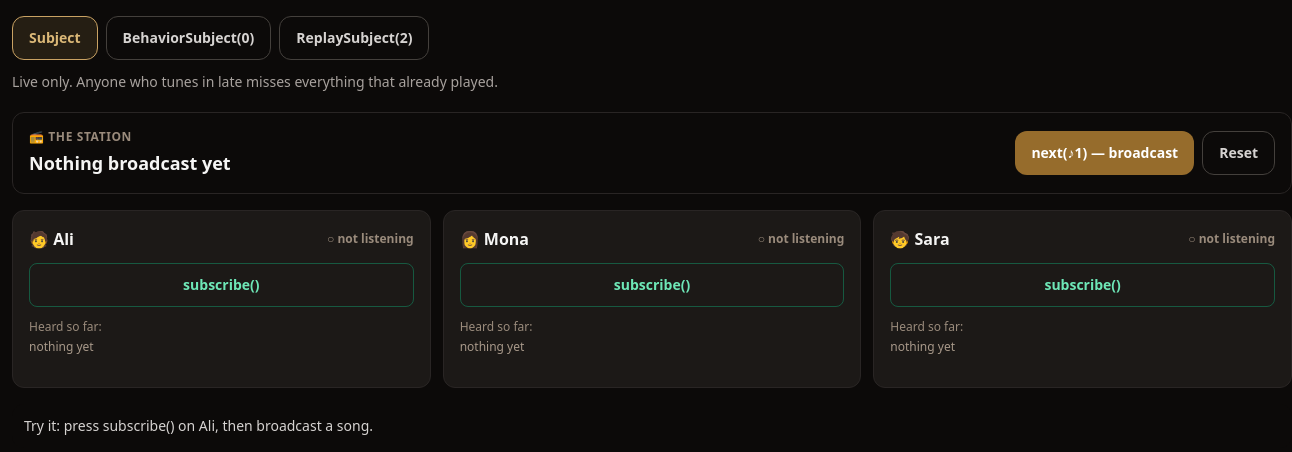
Test: SubjectRadioDemoComponent › gives a late listener nothing from a plain Subject
Click the button "next(♪1) — broadcast" at (1105, 153), box [1015,131,1194,175]
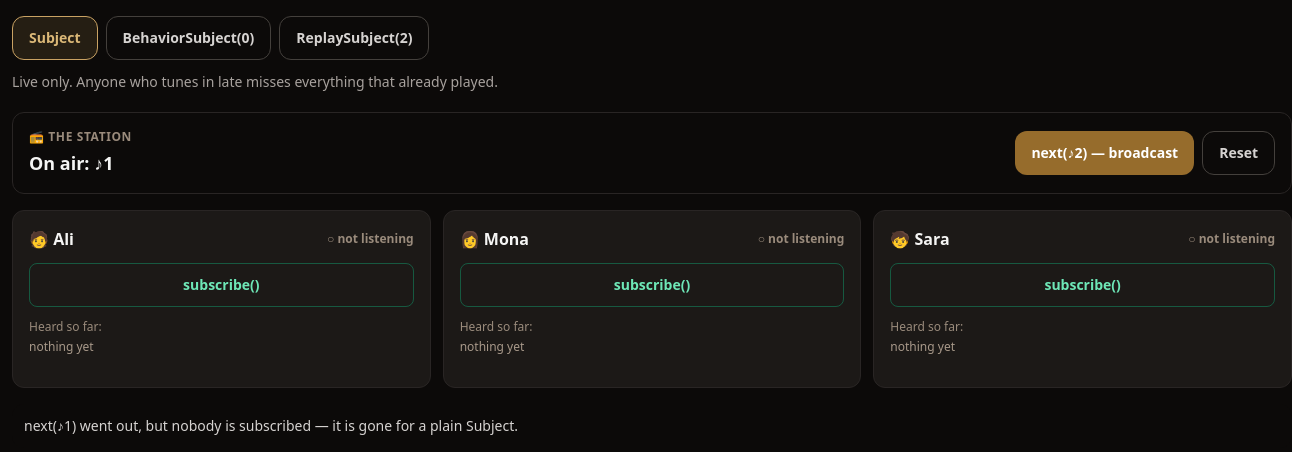
Click the button "next(♪2) — broadcast" at (1105, 153), box [1015,131,1194,175]
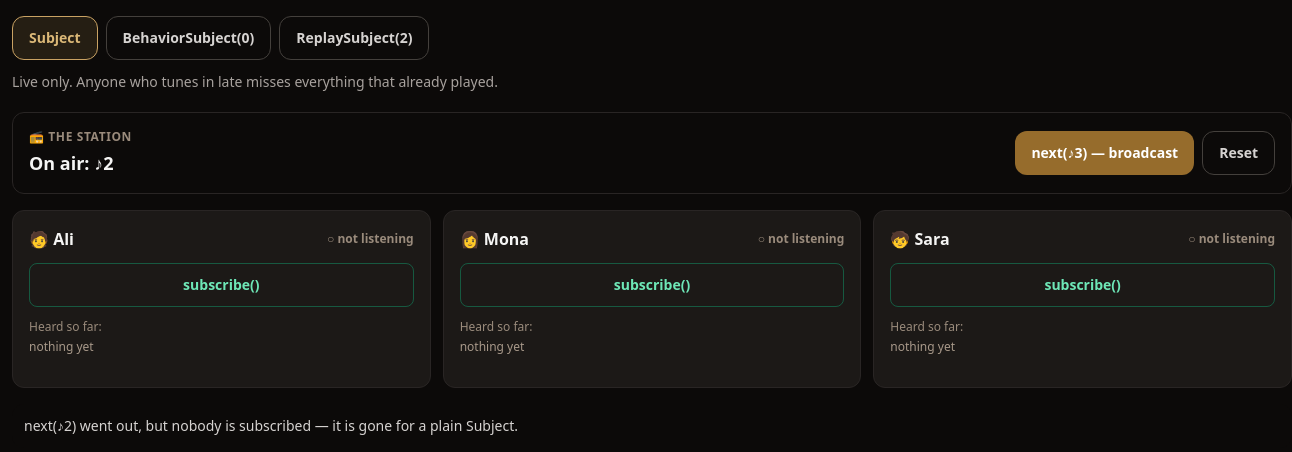
Click the button "subscribe()" below "Sara" at (1083, 285), box [890,263,1275,307]
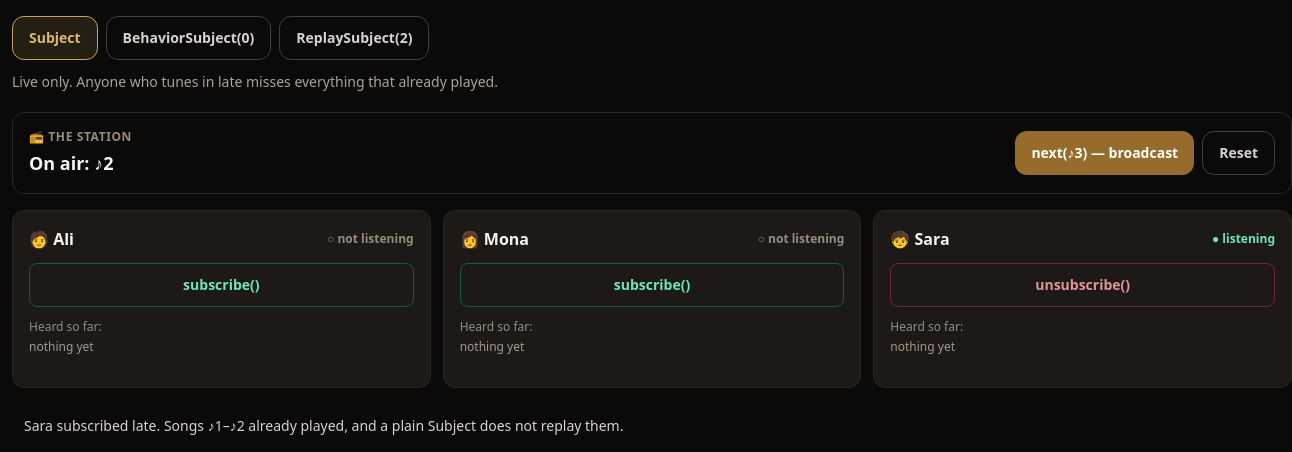
Expected: the message with test id "note" shows "subscribed late", [24,416,624,435]
